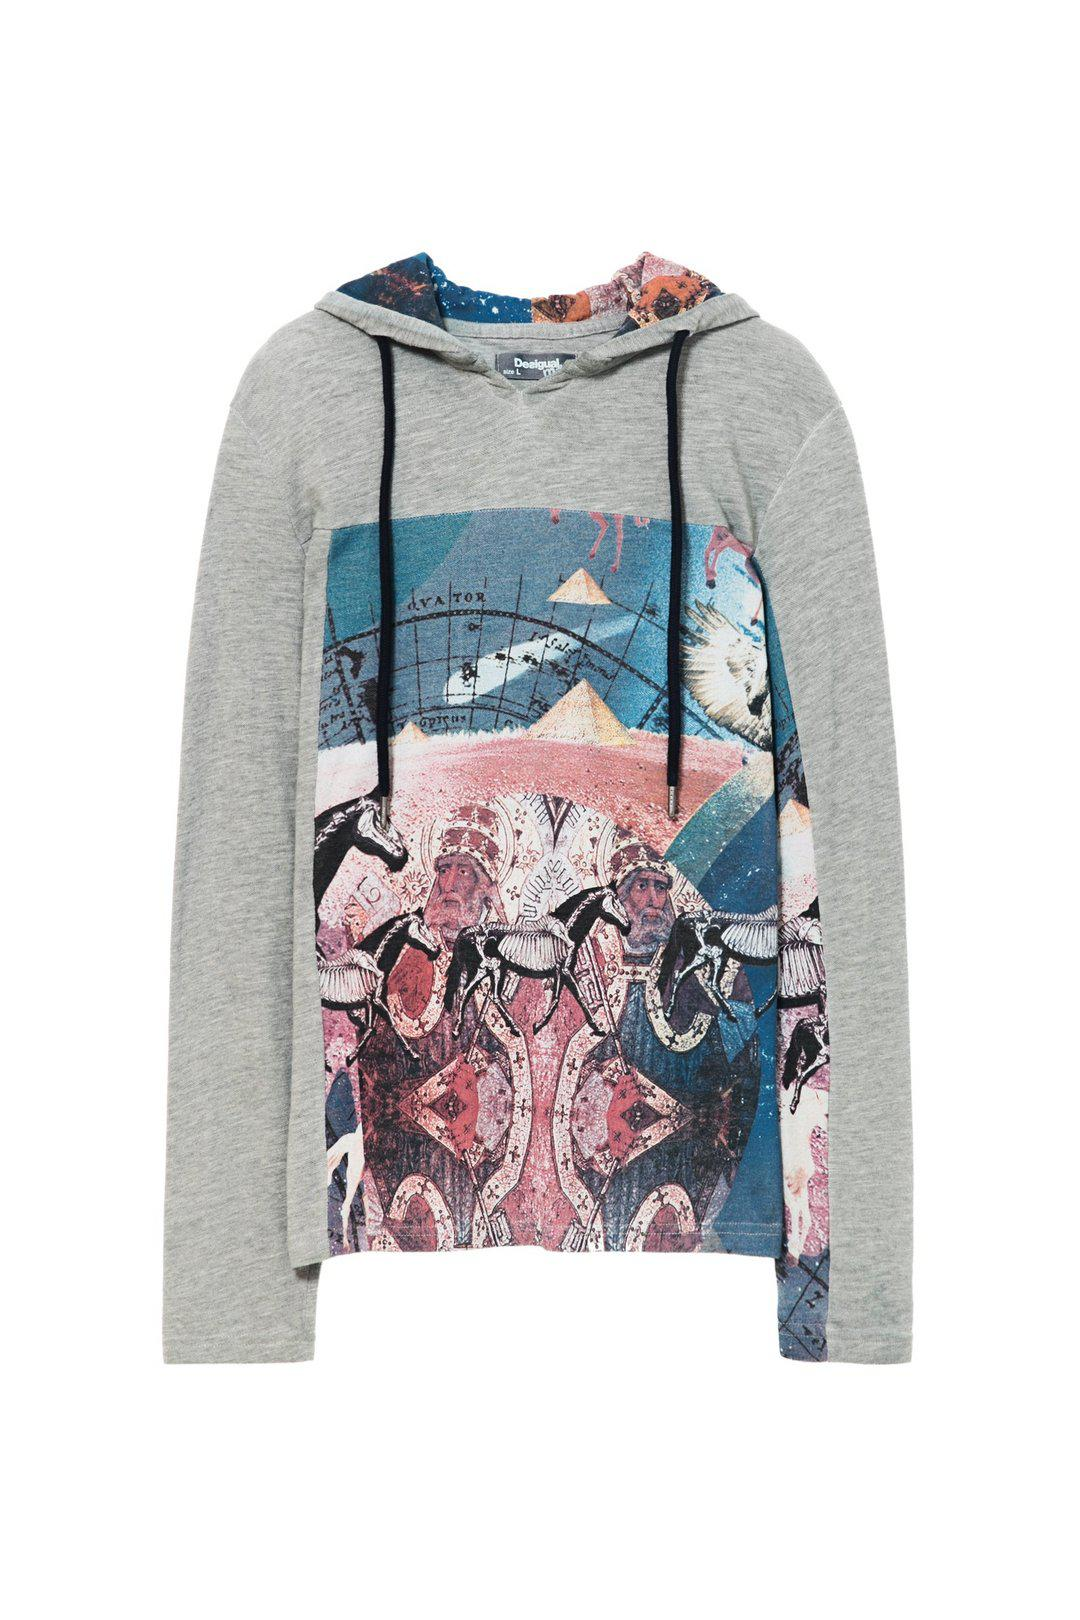teeshirt: (111, 215, 1026, 1475)
